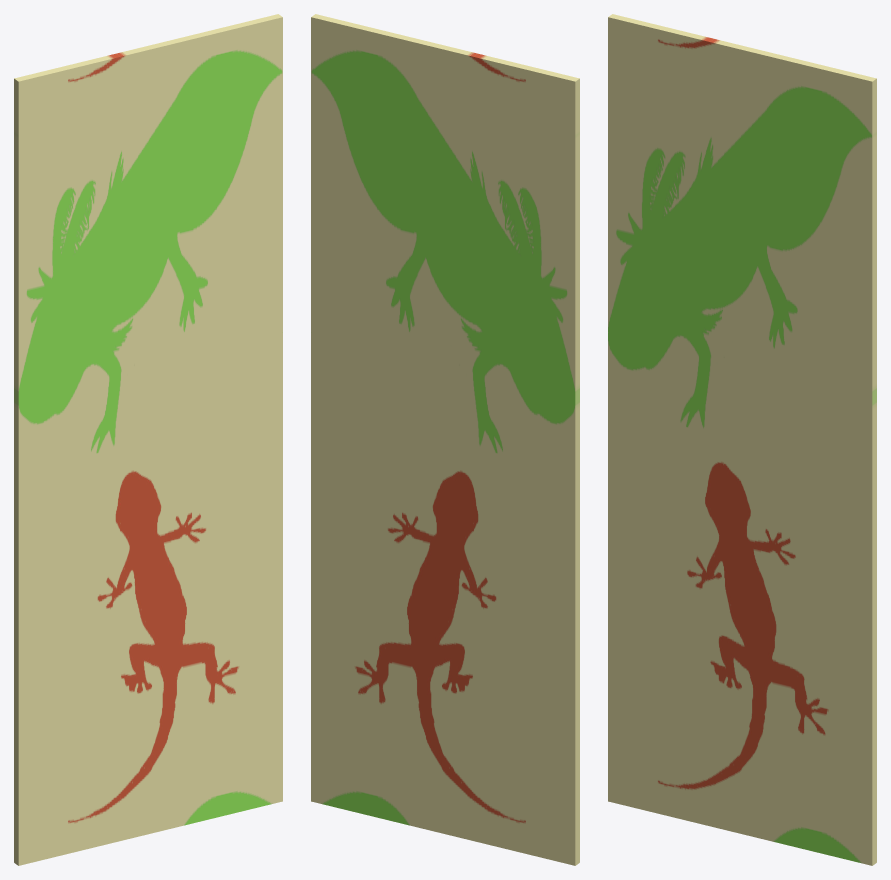
File: bandera4.obj
3 views of the same model, side by side, from view 1: azimuth 30°, elevation 25°; view 2: azimuth 150°, elevation 25°; view 3: azimuth 330°, elevation 25° (orthographic).
Visible parts, largest first — view 1: polySurface2183 pCylinder44; view 2: polySurface2183 pCylinder44; view 3: polySurface2183 pCylinder44.
Part boxes in pixels (x1,y1,x2,y2): polySurface2183 pCylinder44: (14,14,282,865); polySurface2183 pCylinder44: (311,14,579,865); polySurface2183 pCylinder44: (608,14,876,865).
Bounding box in the file's own units: 3.64 × 10.32 × 0.1043.
1 material, 1 textured.
